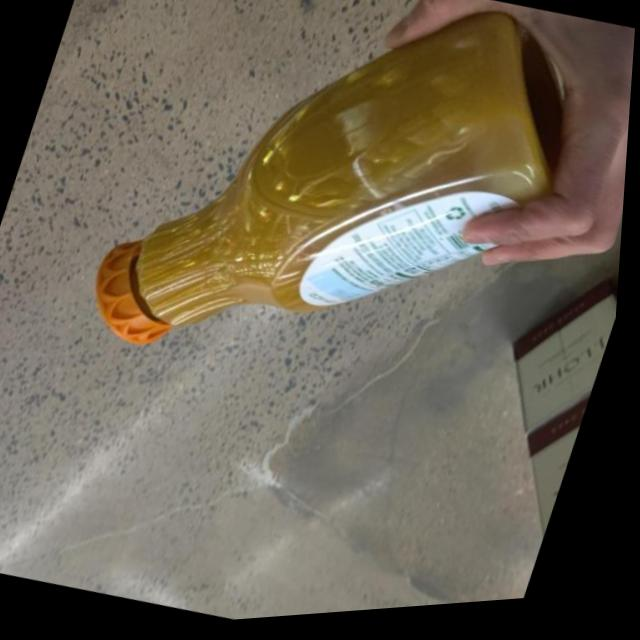Juice: (53, 0, 610, 449)
